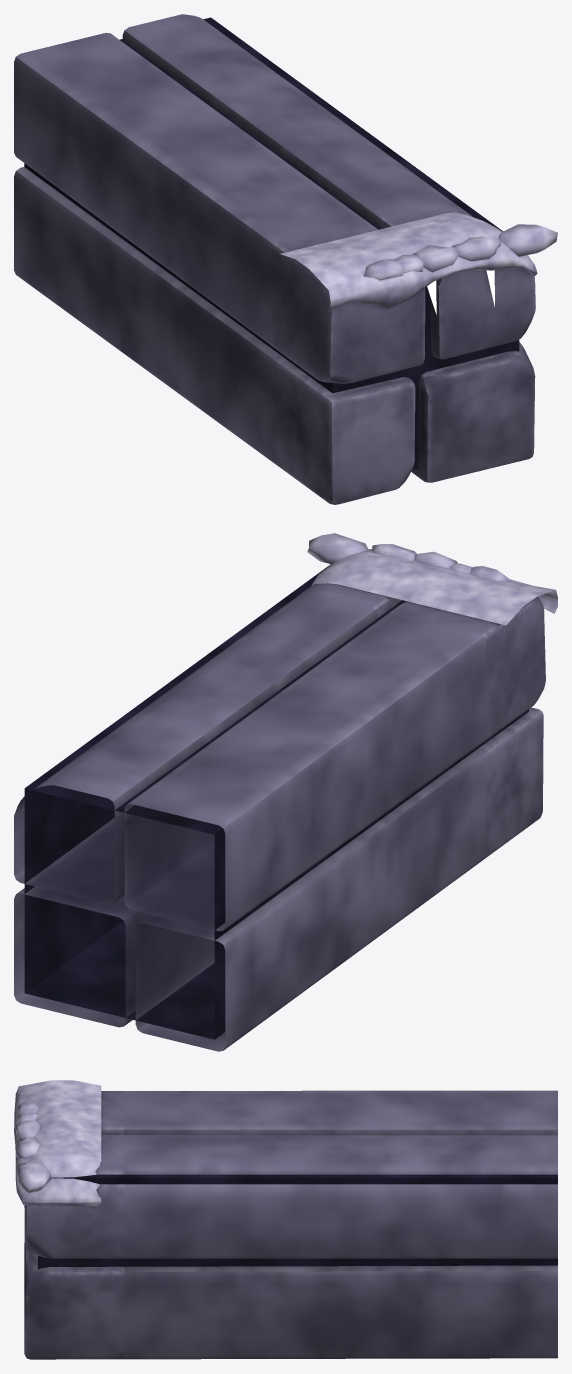
File: Promenade_Edge_R.fbx
3 views of the same model, one above another, from view 1: azimuth 30°, elevation 25°; view 2: azimuth 150°, elevation 25°; view 3: azimuth 270°, elevation 25° (orthographic). The views are drawn at different scales.
Parts seen in each view (by area): view 1: Promenade_Edge_R; view 2: Promenade_Edge_R; view 3: Promenade_Edge_R.
Boxes of the visible parts, bbox=[...] form: Promenade_Edge_R: bbox=[14, 14, 557, 504]; Promenade_Edge_R: bbox=[14, 533, 557, 1051]; Promenade_Edge_R: bbox=[14, 1080, 557, 1359].
Size of the model in its own units: 1.09 by 1.03 by 2.57.
